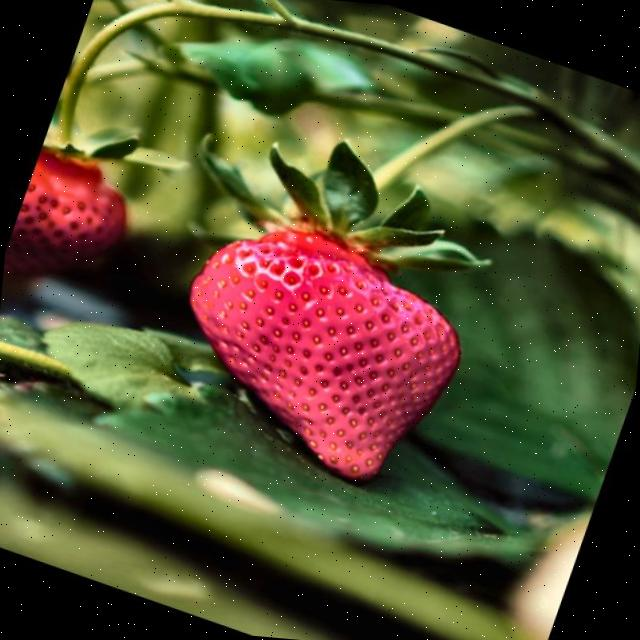strawberry: (191, 228, 460, 479), (4, 148, 126, 274)
